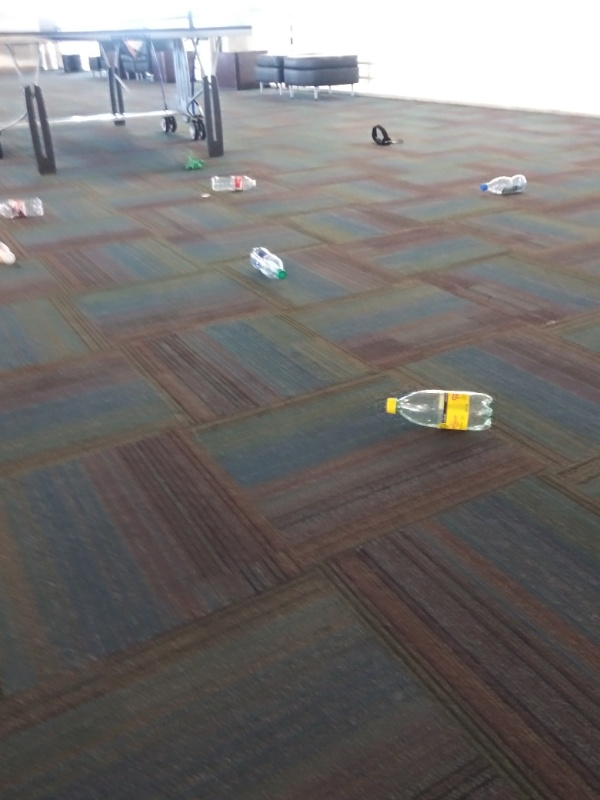bottle: (382, 386, 497, 439), (245, 244, 289, 284), (476, 171, 529, 201), (208, 169, 263, 197), (1, 194, 50, 224), (1, 240, 20, 268)
